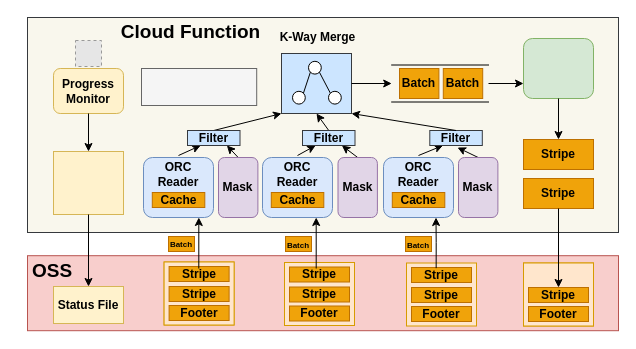
Image size: 636x349. Some labels were removed from this diagram. Grey dashed boxes stand in for pictures. The shapes that lost their labels are listed below. From the top down, each one's centre as x and y in pixels, then its label:
At point (198, 87): "Total Rows: 100000 Processed Rows:4000".
At point (558, 68): "ORC Writer".
At point (88, 182): "Status Total Processed TimeStamp".
